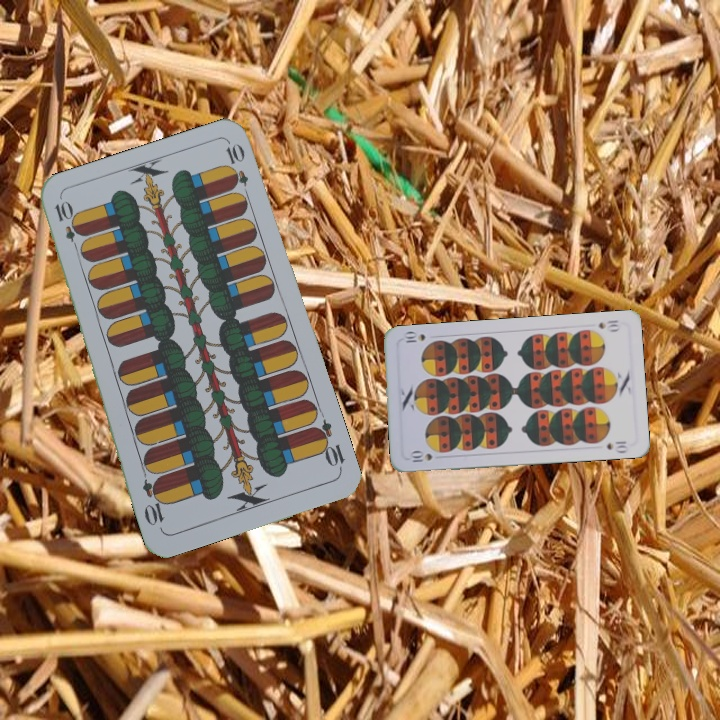E10: (309, 416, 347, 474), (50, 197, 84, 255)
S10: (406, 448, 435, 465), (595, 316, 622, 334)
